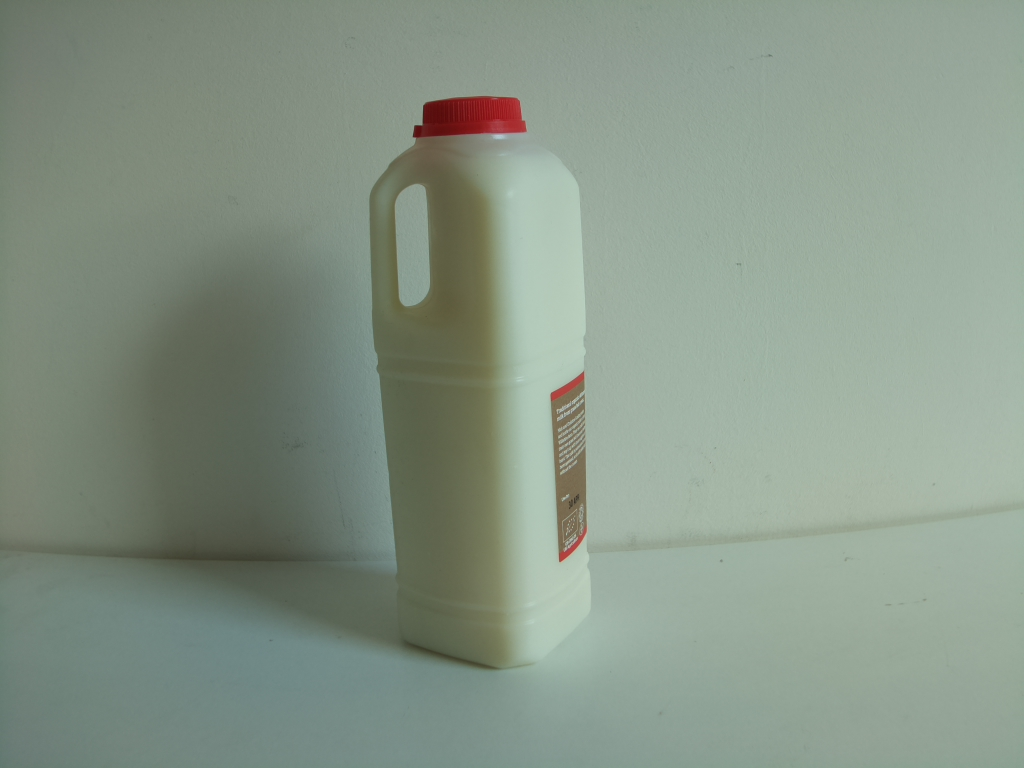milk: (368, 89, 605, 670)
